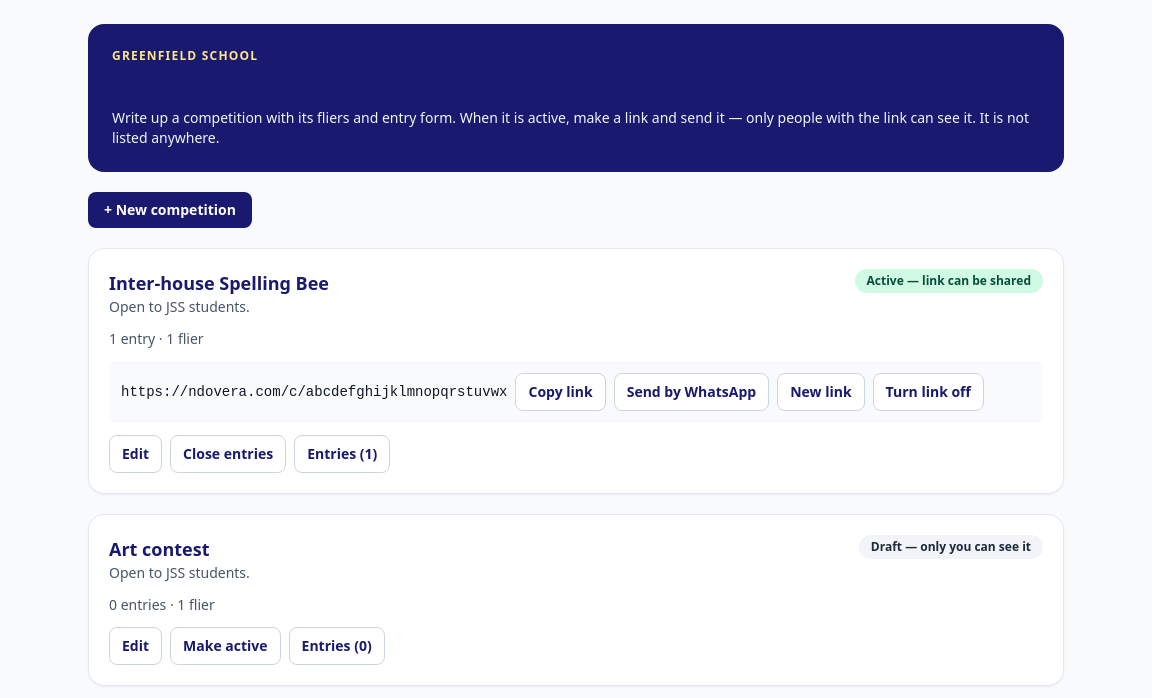
Test: the competitions-by-link page is readable: a shared competition, the editor and the entries
This screenshot has width=1152, height=698.
Check: the heading "Inter-house Spelling Bee" is shown, box x1=109 y1=269 x2=329 y2=297
Click the button "Entries (1)": click(342, 454) x1=294 y1=435 x2=390 y2=473
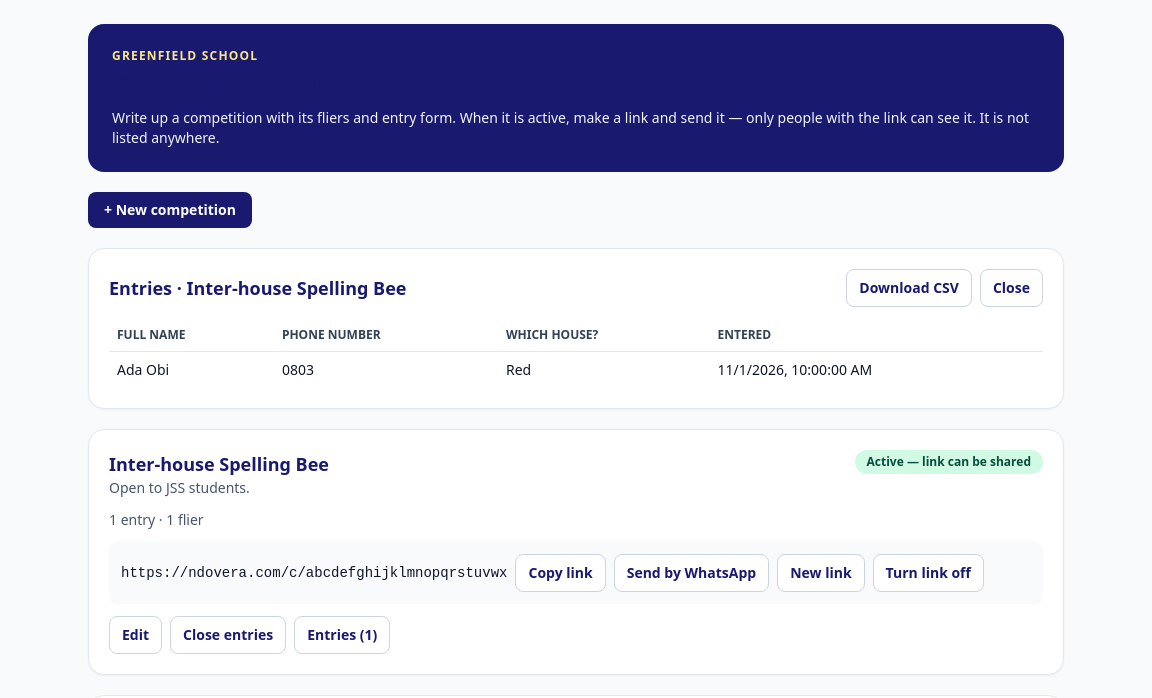
Check: the text "Ada Obi" is shown, box x1=109 y1=352 x2=274 y2=388
Click the button "Edit": click(136, 635) x1=109 y1=616 x2=162 y2=654
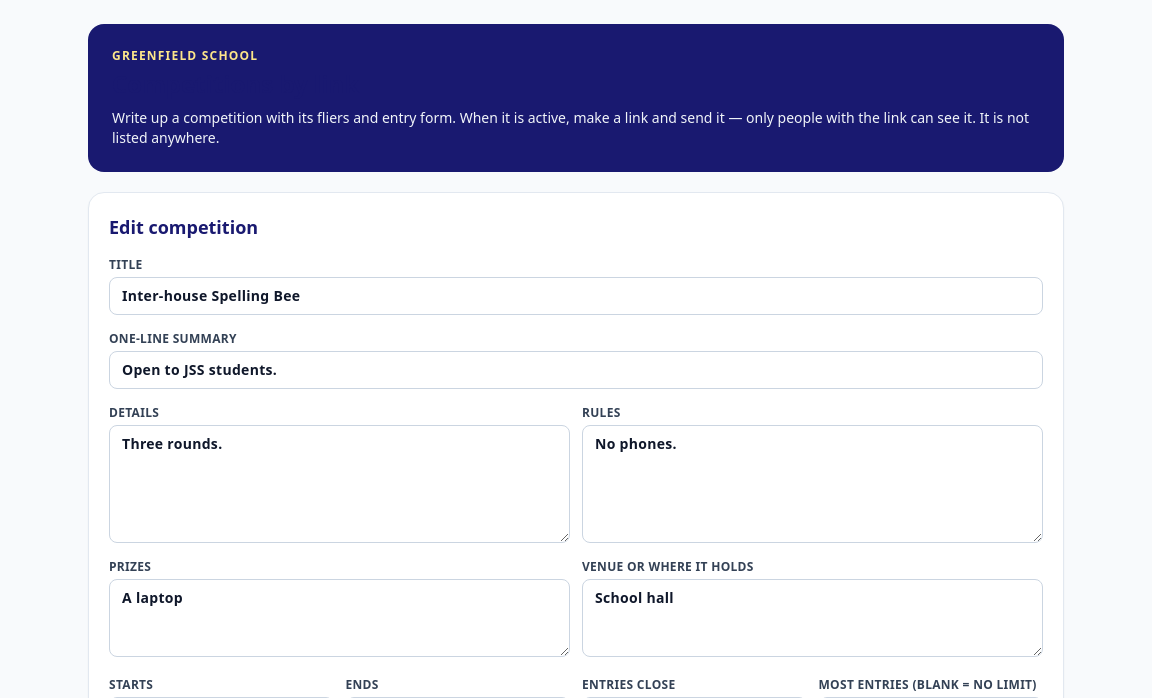
Check: the heading "Edit competition" is shown, box x1=109 y1=215 x2=258 y2=239
